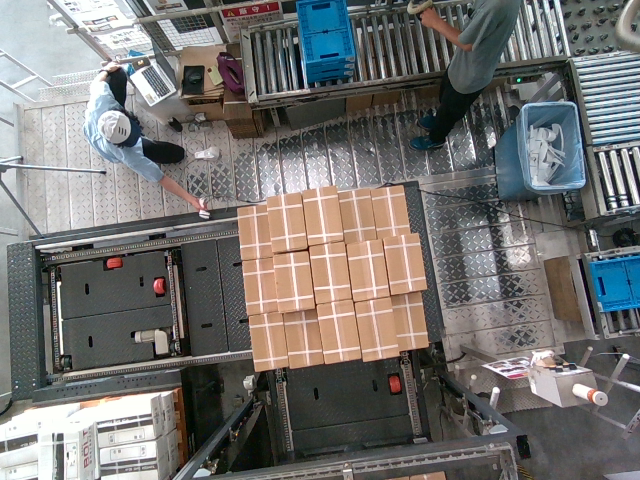box: (355, 299, 400, 362), (316, 299, 358, 364), (265, 190, 308, 253), (344, 241, 390, 299), (384, 232, 426, 294), (302, 186, 344, 246), (307, 243, 349, 302), (273, 250, 313, 310), (247, 311, 287, 371), (286, 307, 324, 368), (236, 203, 276, 259), (370, 186, 411, 239), (238, 261, 278, 315), (390, 292, 427, 349)
